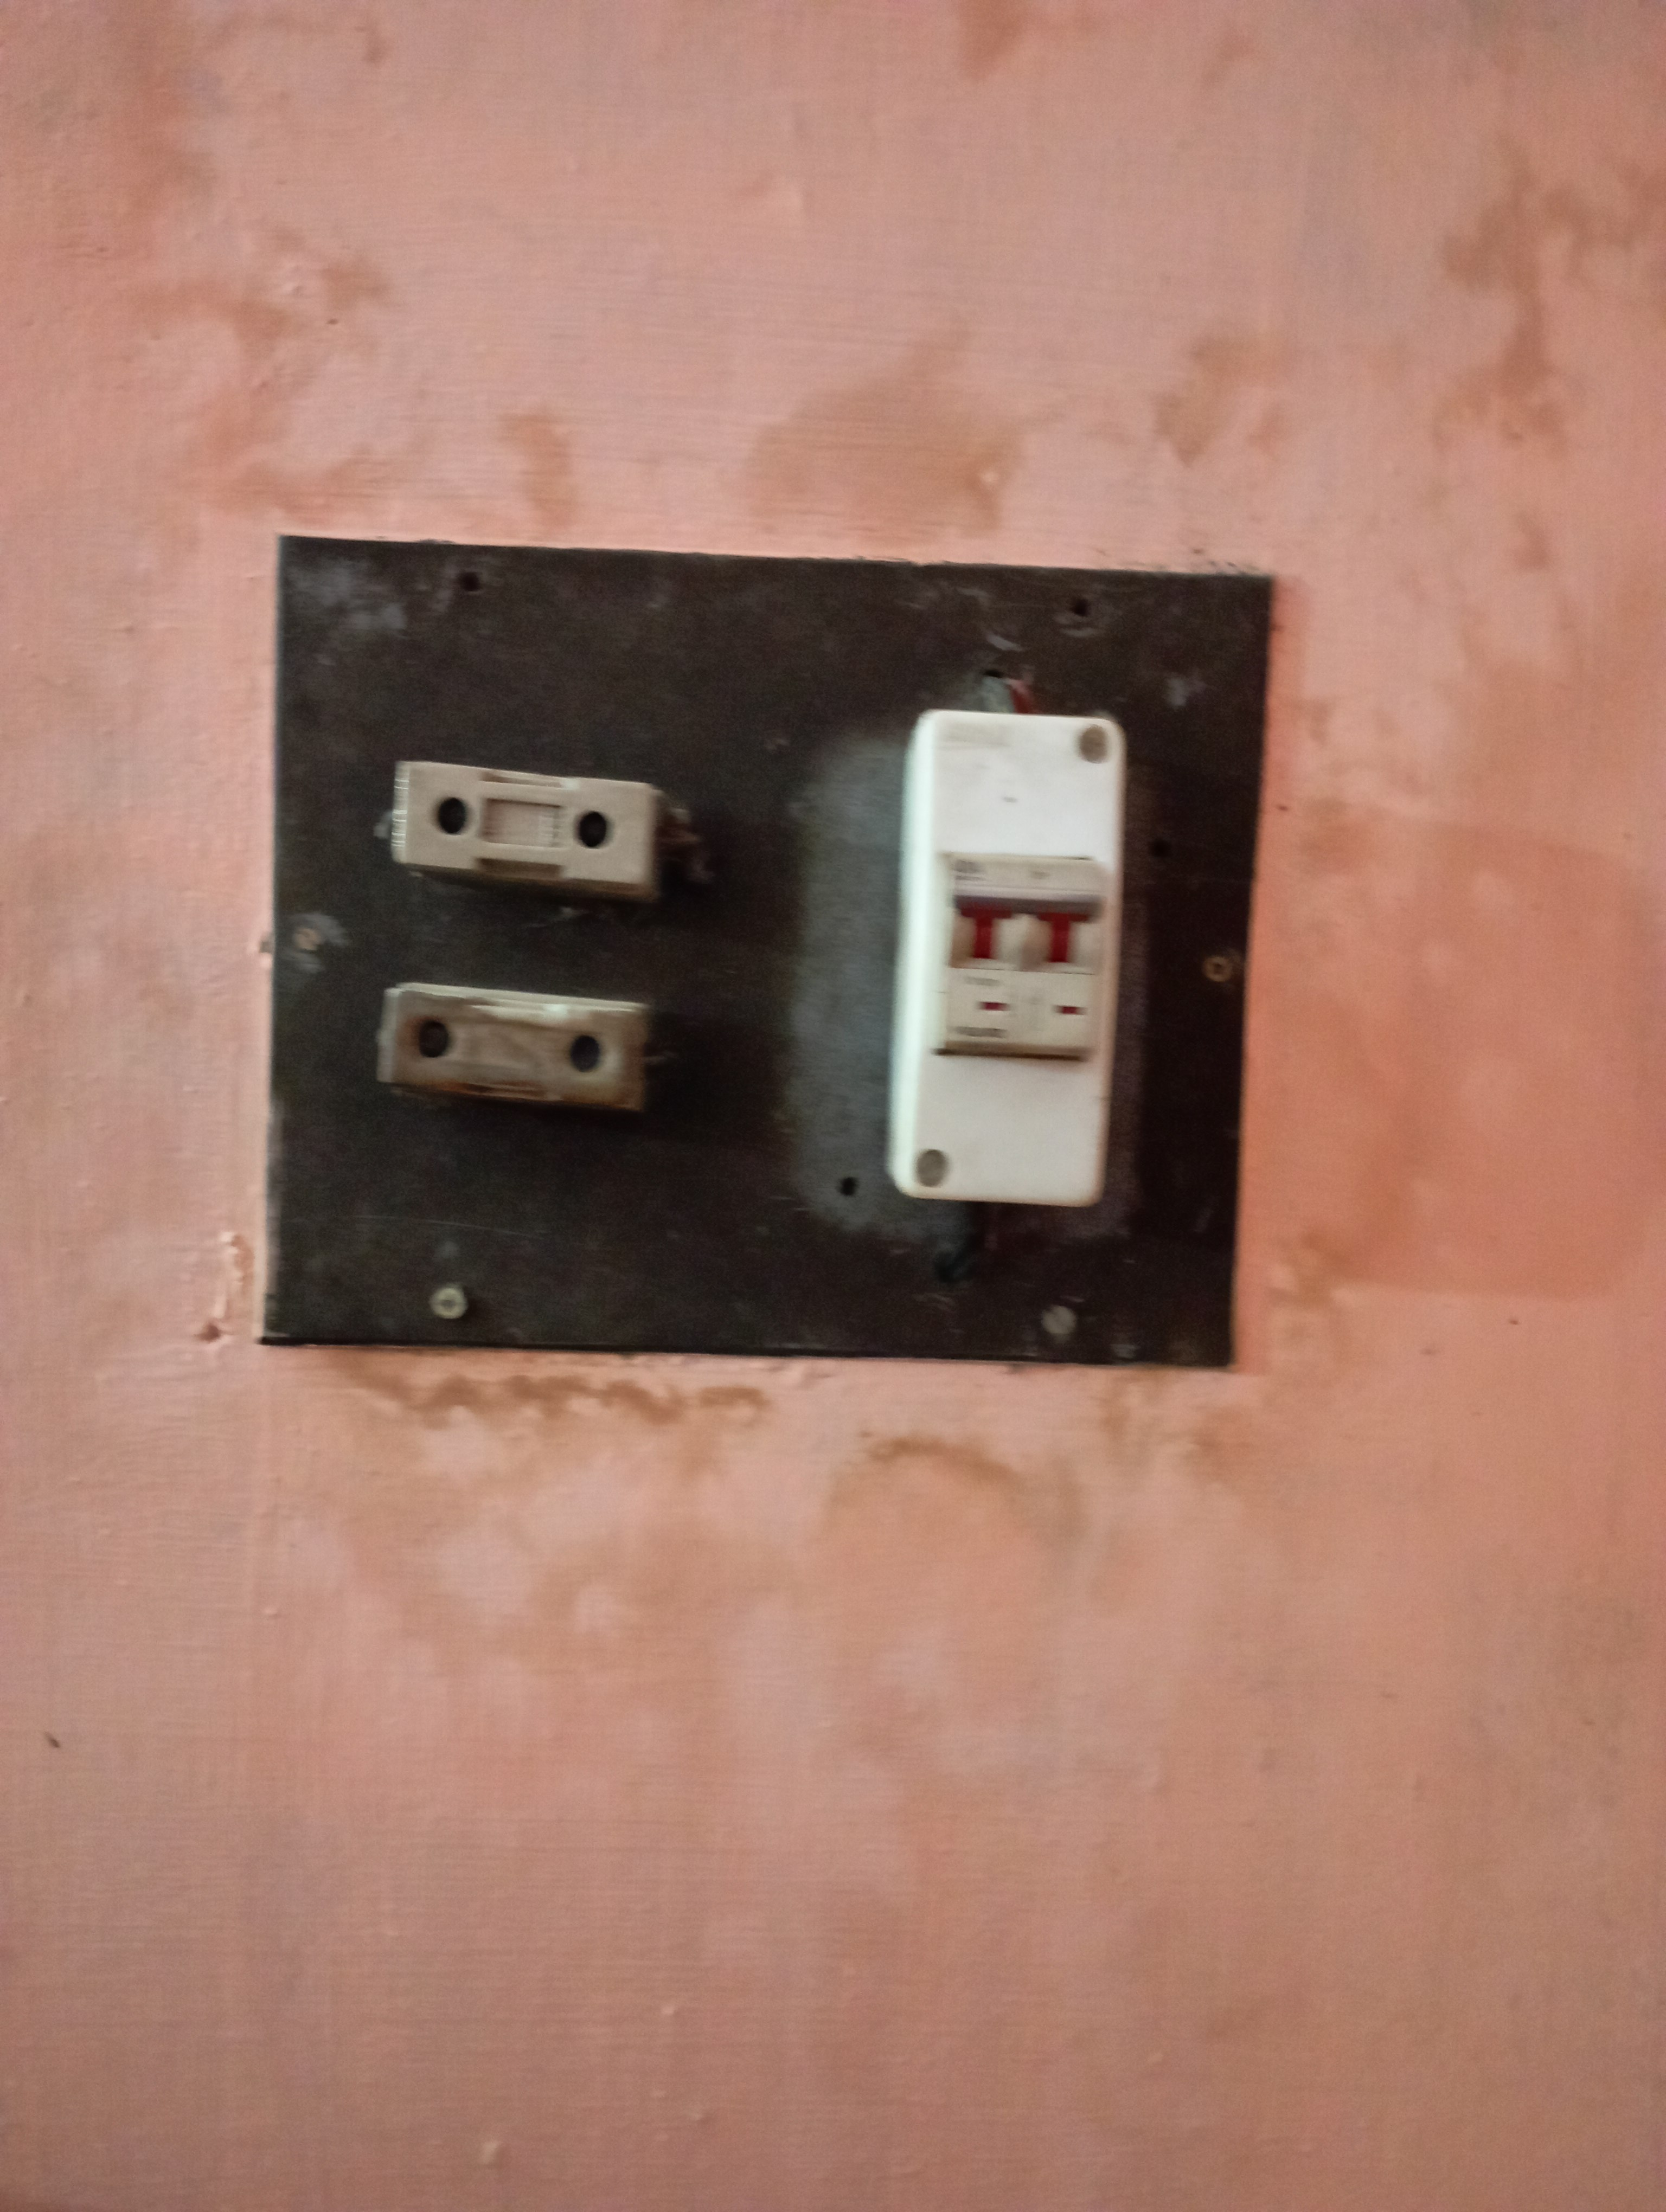ciruit_breaker: (873, 701, 1146, 1229)
fuse: (361, 956, 661, 1128), (383, 745, 683, 904)
